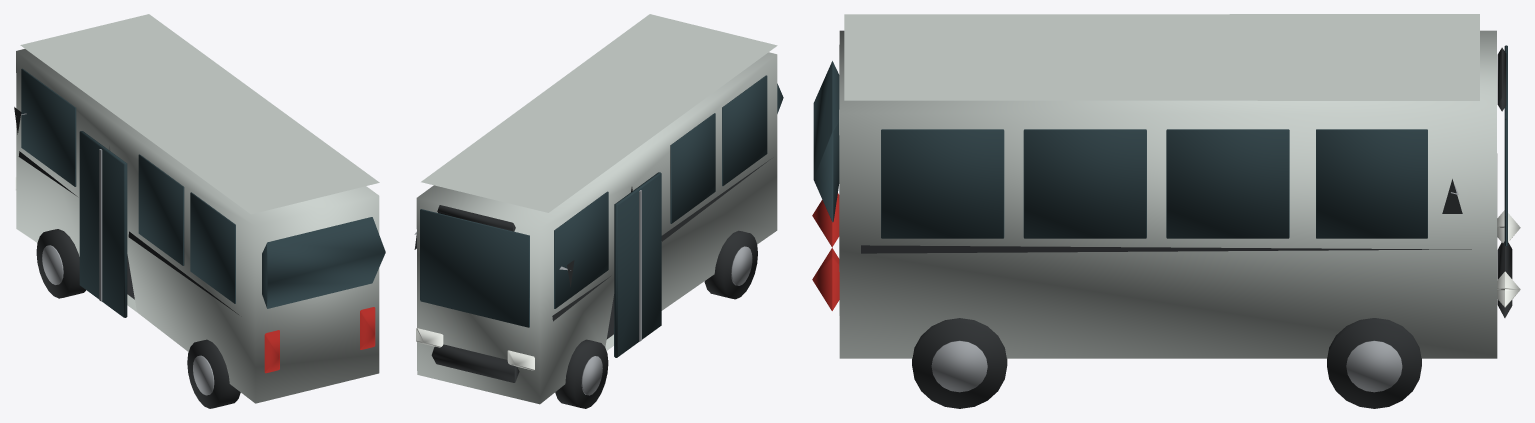
Rendered from shuttlebus-far.glb.
3 views of the same model, side by side, from view 1: azimuth 30°, elevation 25°; view 2: azimuth 150°, elevation 25°; view 3: azimuth 270°, elevation 25° (orthographic). The views are drawn at different scales.
Parts seen in each view (by area): view 1: body, BoardingDoorLeft, WheelFrontL, WheelRearL; view 2: body, BoardingDoorLeft, WheelFrontL, WheelRearL; view 3: body, WheelFrontR, WheelRearR.
Boxes of the visible parts, left/top/right/bottom form: body: left=14, top=14, right=385, bottom=403; BoardingDoorLeft: left=79, top=131, right=127, bottom=317; WheelFrontL: left=36, top=229, right=85, bottom=298; WheelRearL: left=187, top=339, right=240, bottom=408; body: left=414, top=14, right=783, bottom=404; BoardingDoorLeft: left=614, top=172, right=661, bottom=357; WheelFrontL: left=555, top=339, right=608, bottom=408; WheelRearL: left=704, top=230, right=757, bottom=299; body: left=812, top=14, right=1520, bottom=358; WheelFrontR: left=1327, top=318, right=1421, bottom=408; WheelRearR: left=912, top=318, right=1007, bottom=408.
Size of the model in its own units: 2.04 by 2.76 by 5.81.
